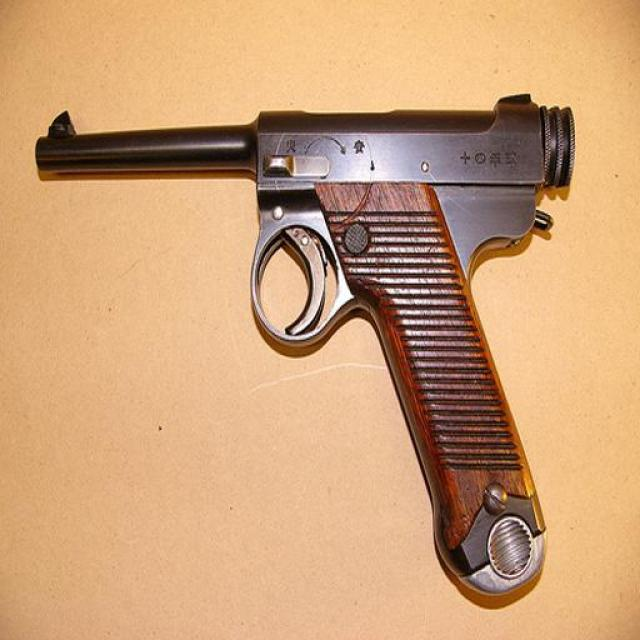pistol: (33, 86, 574, 605)
